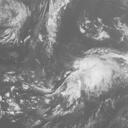cyclone: (73, 47, 121, 94)
